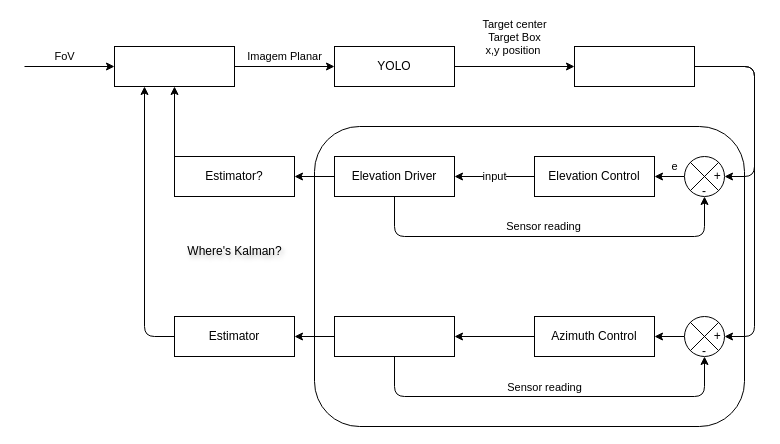
This 780x444 diagram has some shape labels left out. The shapes that lost their labels are listed below. From the top down, each one's box as (x1, y1, x2, y2) in pixels, then its label:
(114, 46, 234, 86): Camera
(574, 46, 694, 86): Computer
(314, 126, 744, 426): Gimbal Control Group
(334, 316, 454, 356): Azimuth Driver
